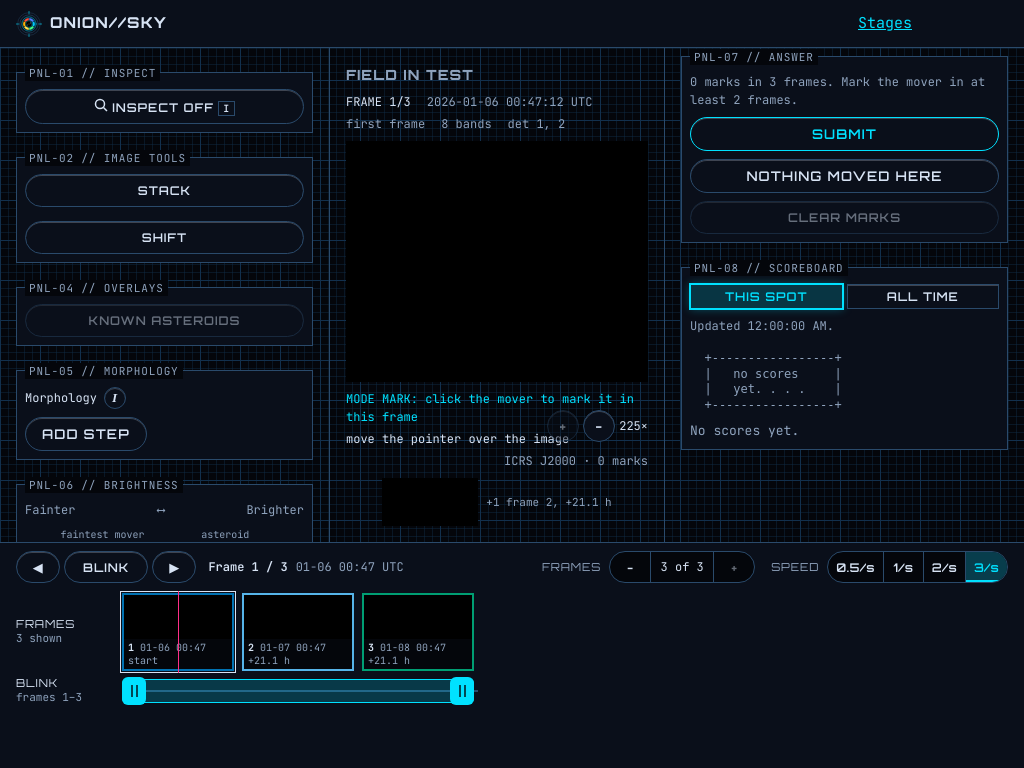
Scenario: PlayScreen wiring › Stack stops a playing blink
Click the button with aria-label "Play blink": (106, 567) [64, 551, 148, 583]
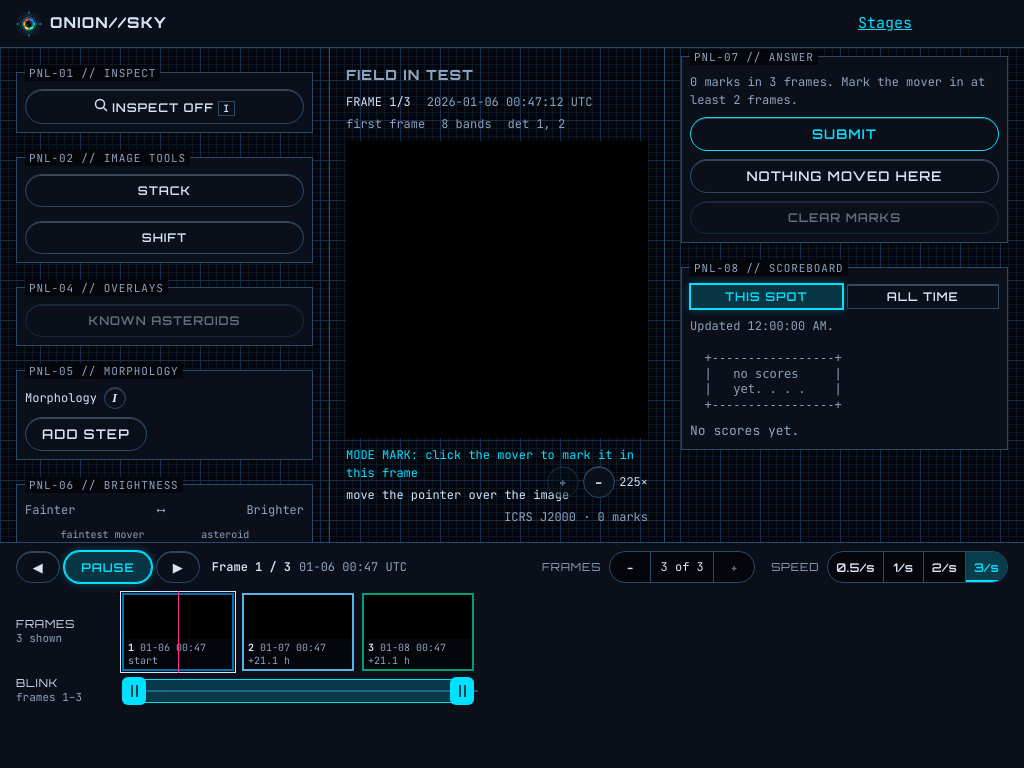
Expected: the button with aria-label "Pause blink" is shown, [64, 551, 152, 583]
Click the button "Stack": (164, 190) [25, 174, 304, 207]
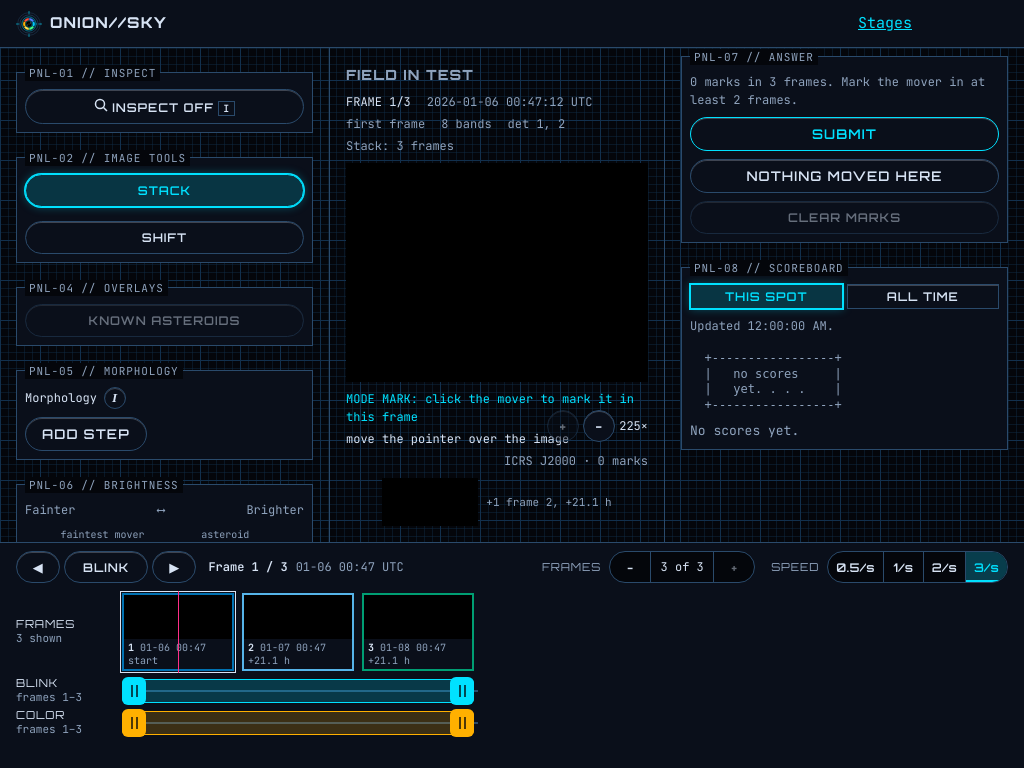
Expected: the button with aria-label "Play blink" is shown, [64, 551, 148, 583]
